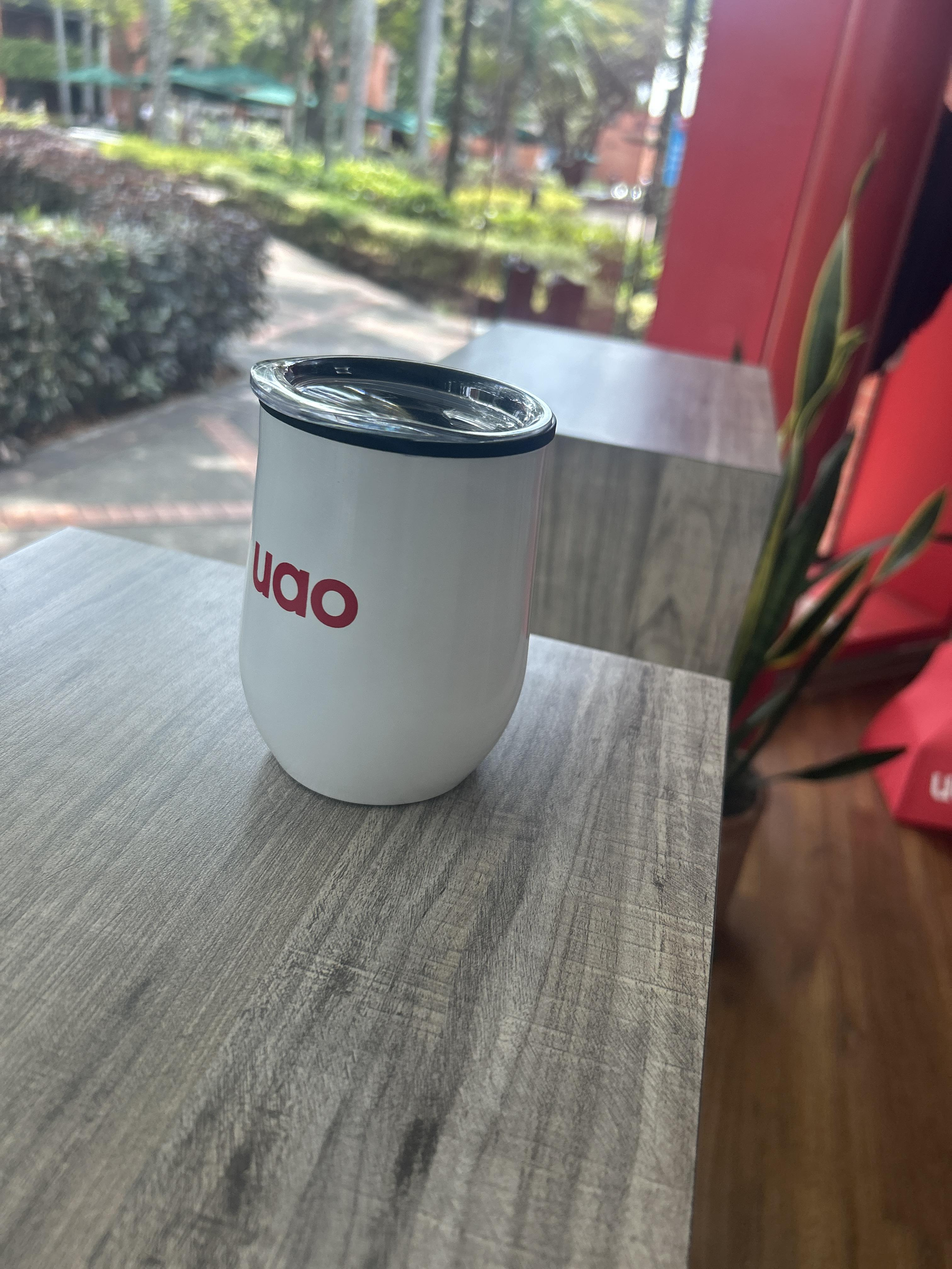vaso: (240, 356, 555, 804)
